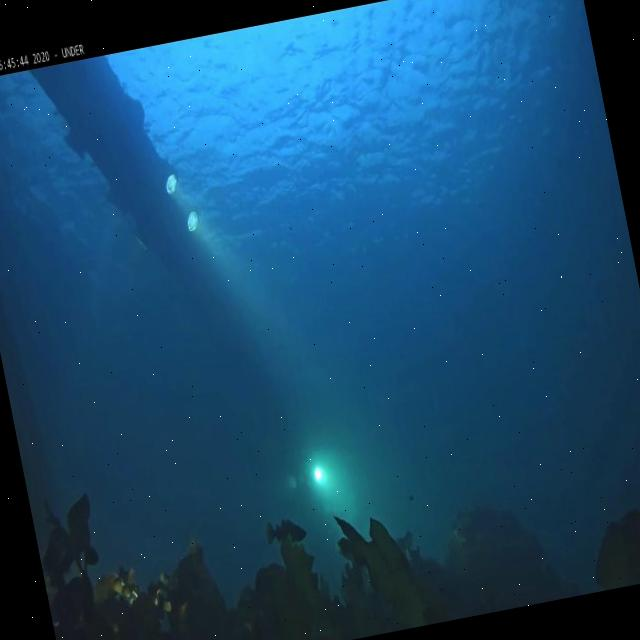fish: (264, 514, 308, 552)
